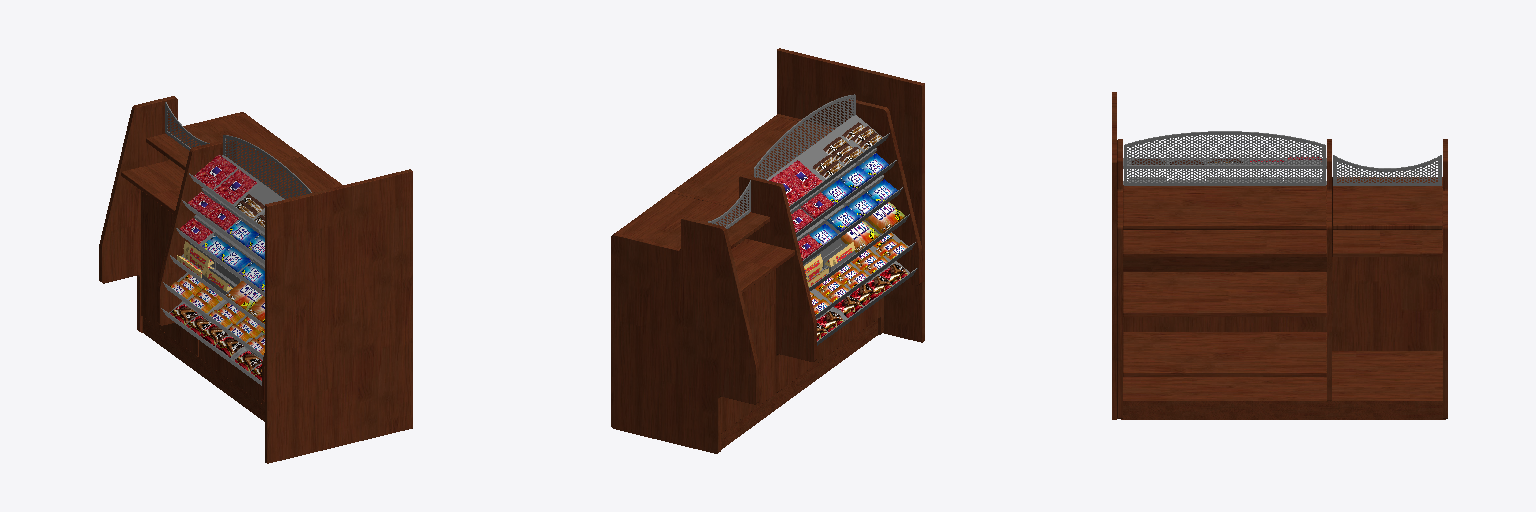
3 renders of one model, left to right at view 1: azimuth 30°, elevation 25°; view 2: azimuth 150°, elevation 25°; view 3: azimuth 270°, elevation 25°, orthographic.
Visible parts, largest first — view 1: Arch_44__025_146, Arch_44__025_2, Arch_44__025_1, Arch_44__025_147, Arch_44__025_129, Arch_44__025_130, Arch_44__025_56; view 2: Arch_44__025_146, Arch_44__025_2, Arch_44__025_1, Arch_44__025_147, Arch_44__025_130, Arch_44__025_58, Arch_44__025_56; view 3: Arch_44__025_146, Arch_44__025_147, Arch_44__025_1, Arch_44__025_2.
Boxes of the visible parts, box(x1,y1,x2,y2) form: Arch_44__025_146: box(99, 96, 412, 463); Arch_44__025_2: box(161, 155, 284, 385); Arch_44__025_1: box(165, 102, 311, 198); Arch_44__025_147: box(143, 317, 264, 421); Arch_44__025_129: box(194, 155, 236, 189); Arch_44__025_130: box(214, 169, 256, 203); Arch_44__025_56: box(226, 281, 262, 311); Arch_44__025_146: box(611, 48, 924, 453); Arch_44__025_2: box(766, 115, 917, 345); Arch_44__025_1: box(708, 94, 855, 228); Arch_44__025_147: box(721, 319, 877, 449); Arch_44__025_130: box(782, 160, 822, 193); Arch_44__025_58: box(865, 202, 904, 233); Arch_44__025_56: box(841, 221, 879, 252); Arch_44__025_146: box(1112, 92, 1447, 419); Arch_44__025_147: box(1121, 350, 1445, 419); Arch_44__025_1: box(1124, 131, 1441, 185); Arch_44__025_2: box(1123, 158, 1326, 184).
Size of the model in its own units: 28.03 by 47.31 by 56.07.
Materials: 9 (7 with a texture image).